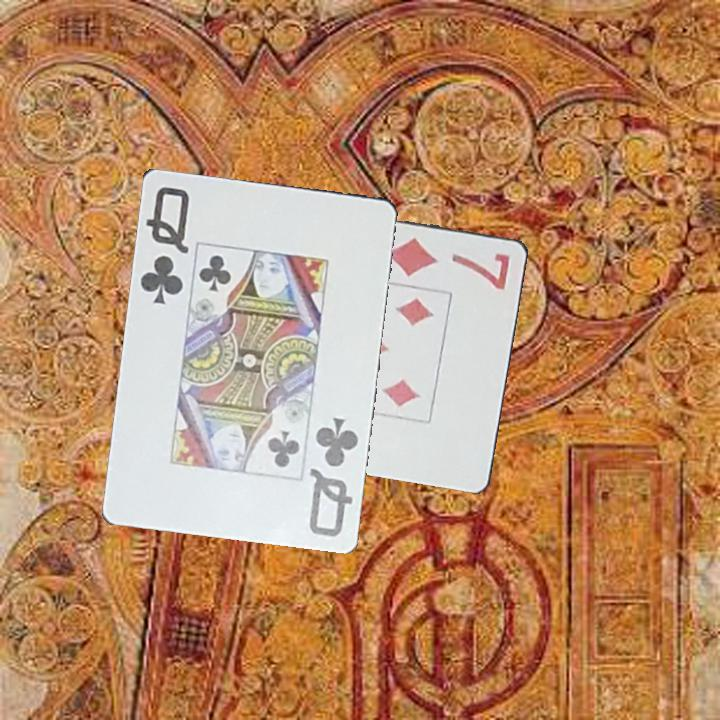7d: (381, 234, 514, 293)
Qc: (305, 413, 361, 540), (136, 182, 192, 307)
